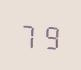nine: (40, 20, 60, 51)
seven: (19, 18, 39, 49)
